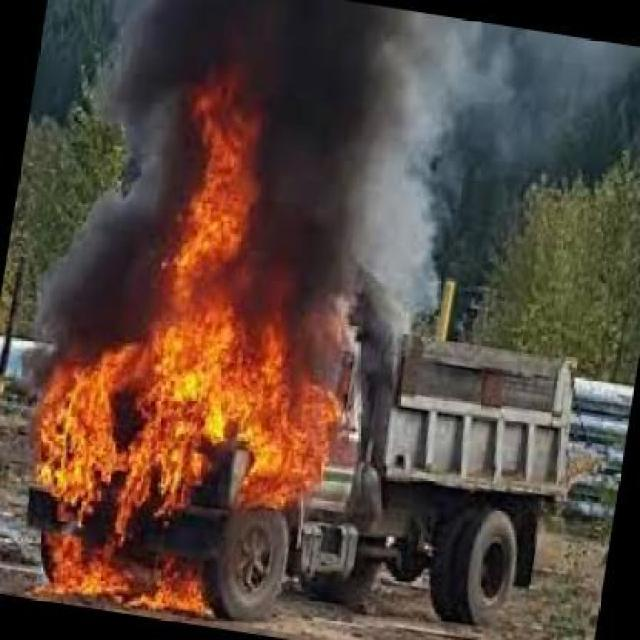Fire: (19, 312, 354, 608), (167, 74, 266, 308)
Smoke: (266, 10, 473, 299), (44, 162, 148, 342), (484, 38, 636, 129), (84, 2, 248, 68)
